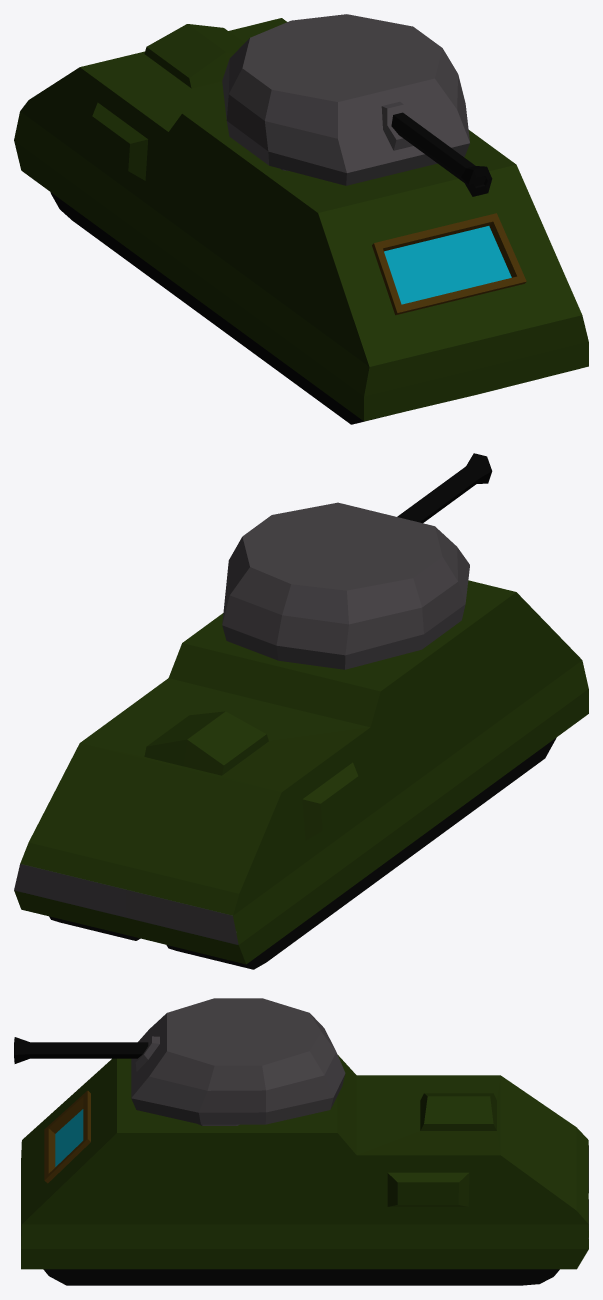
Rendered from Tank.obj.
3 views of the same model, one above another, from view 1: azimuth 30°, elevation 25°; view 2: azimuth 150°, elevation 25°; view 3: azimuth 270°, elevation 25° (orthographic). The views are drawn at different scales.
Visible parts, largest first — view 1: Body.002_Cube.002; view 2: Body.002_Cube.002; view 3: Body.002_Cube.002.
Boxes of the visible parts, box(x1,y1,x2,y2) form: Body.002_Cube.002: box(14, 14, 588, 424); Body.002_Cube.002: box(14, 453, 588, 969); Body.002_Cube.002: box(14, 998, 588, 1285).
Size of the model in its own units: 2.37 by 2.59 by 6.26.
Materials: 1 (1 with a texture image).
